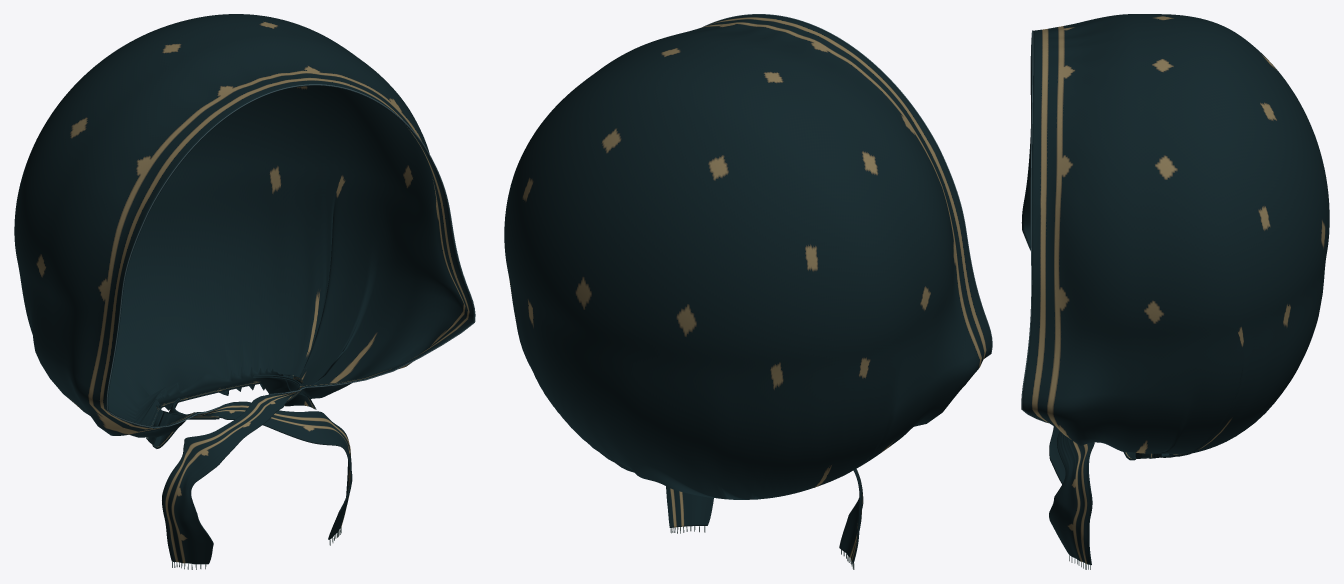
File: Feminine-twin-braids-triangle-pashmina250-headgear.glb
3 views of the same model, side by side, from view 1: azimuth 30°, elevation 25°; view 2: azimuth 150°, elevation 25°; view 3: azimuth 270°, elevation 25° (orthographic). The views are drawn at different scales.
Visible parts, largest first — view 1: 226 headgear / Headwear / continuous woven pashmina239, 226 headgear / Headwear / face edge239; view 2: 226 headgear / Headwear / continuous woven pashmina239, 226 headgear / Headwear / face edge239; view 3: 226 headgear / Headwear / continuous woven pashmina239, 226 headgear / Headwear / face edge239.
Part boxes in pixels (left/top/right/bottom): 226 headgear / Headwear / continuous woven pashmina239: left=14, top=14, right=474, bottom=564; 226 headgear / Headwear / face edge239: left=106, top=84, right=475, bottom=428; 226 headgear / Headwear / continuous woven pashmina239: left=504, top=14, right=991, bottom=563; 226 headgear / Headwear / face edge239: left=703, top=14, right=992, bottom=358; 226 headgear / Headwear / continuous woven pashmina239: left=1022, top=14, right=1329, bottom=564; 226 headgear / Headwear / face edge239: left=1021, top=30, right=1048, bottom=423.
Bounding box in the file's own units: 1.1 × 1.38 × 0.7758.
3 materials, 1 textured.
